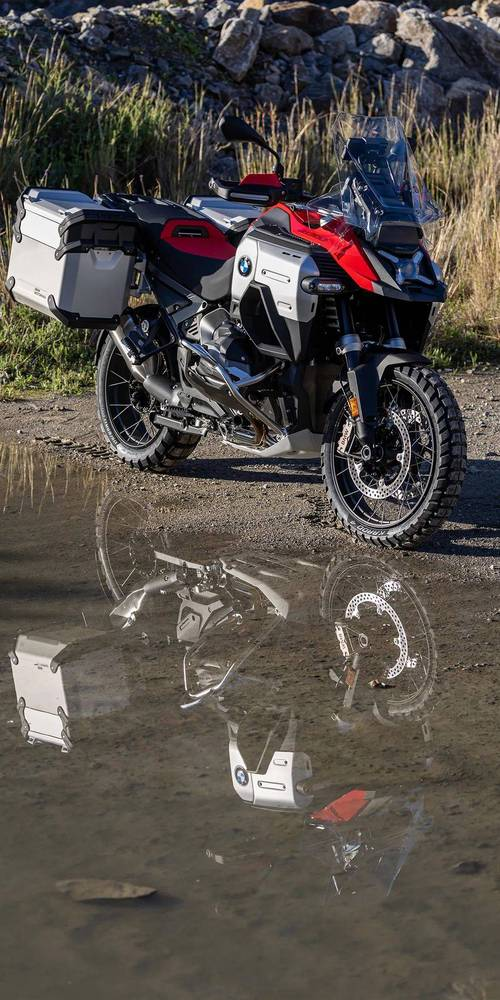摩托车: (9, 111, 482, 555)
